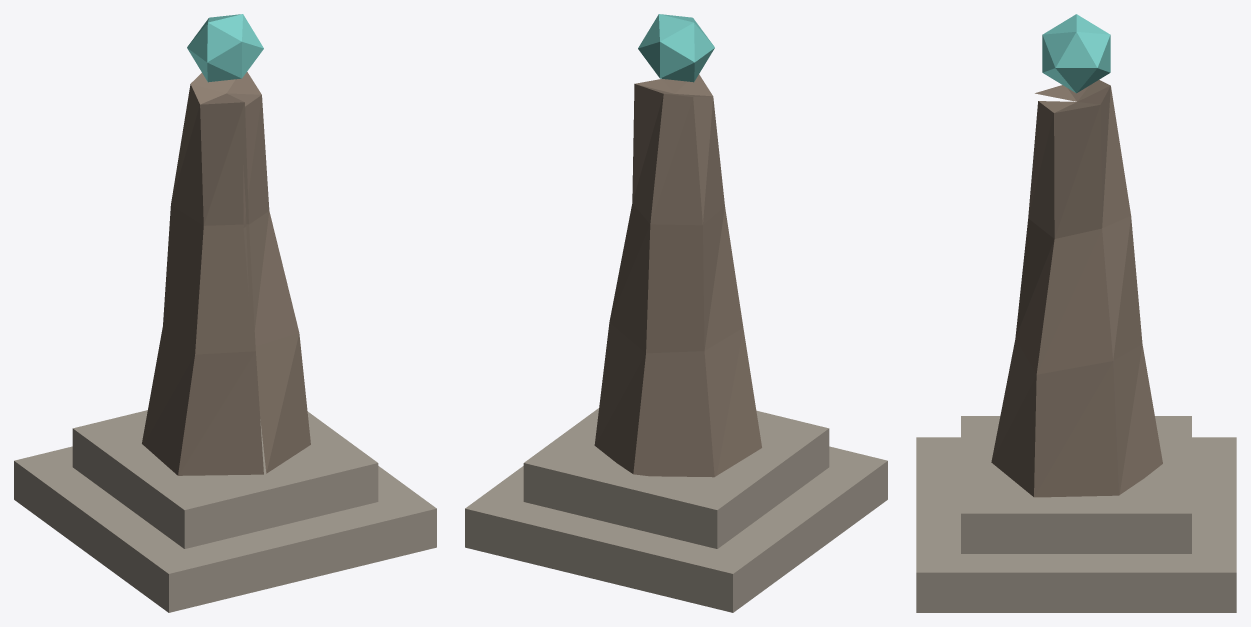
File: shrine-statue-standin.glb
3 views of the same model, side by side, from view 1: azimuth 30°, elevation 25°; view 2: azimuth 150°, elevation 25°; view 3: azimuth 270°, elevation 25° (orthographic). The views are drawn at different scales.
Parts seen in each view (by area): view 1: stone, rock, accent; view 2: stone, rock, accent; view 3: stone, rock, accent.
Boxes of the visible parts, x1,y1,x2,y2 form: stone: (14,410,436,612); rock: (142,72,310,475); accent: (187,14,263,82); stone: (465,408,887,612); rock: (594,74,761,477); accent: (638,14,714,82); stone: (916,416,1236,612); rock: (991,80,1162,497); accent: (1042,14,1110,93).
Size of the model in its own units: 3.6 by 6.48 by 3.6.
